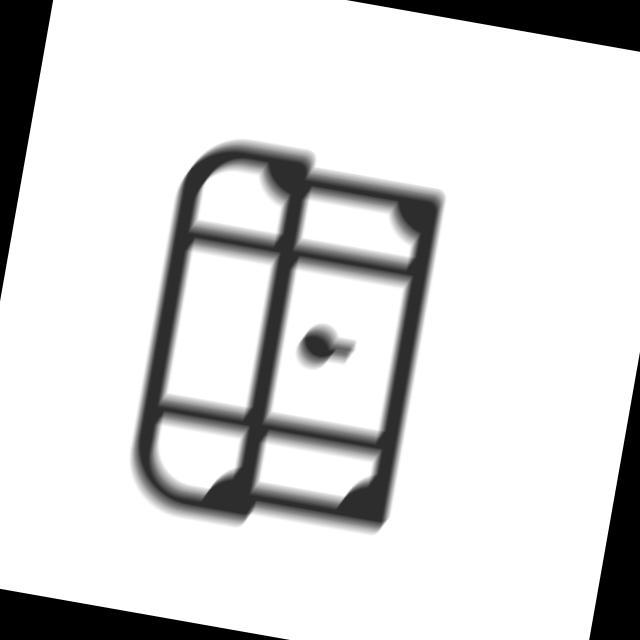treasure_box: (111, 120, 457, 561)
